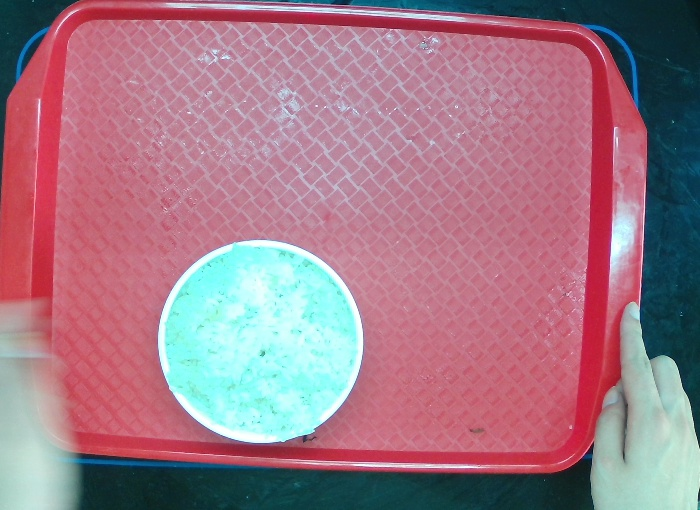YKMZ-Fan_Wan: (155, 237, 367, 444)
